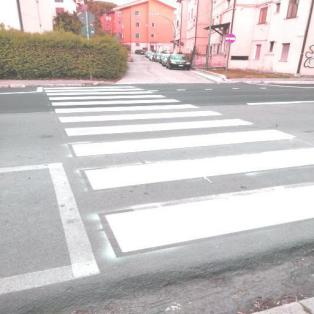Paso de Cebra: (50, 117, 300, 160)
